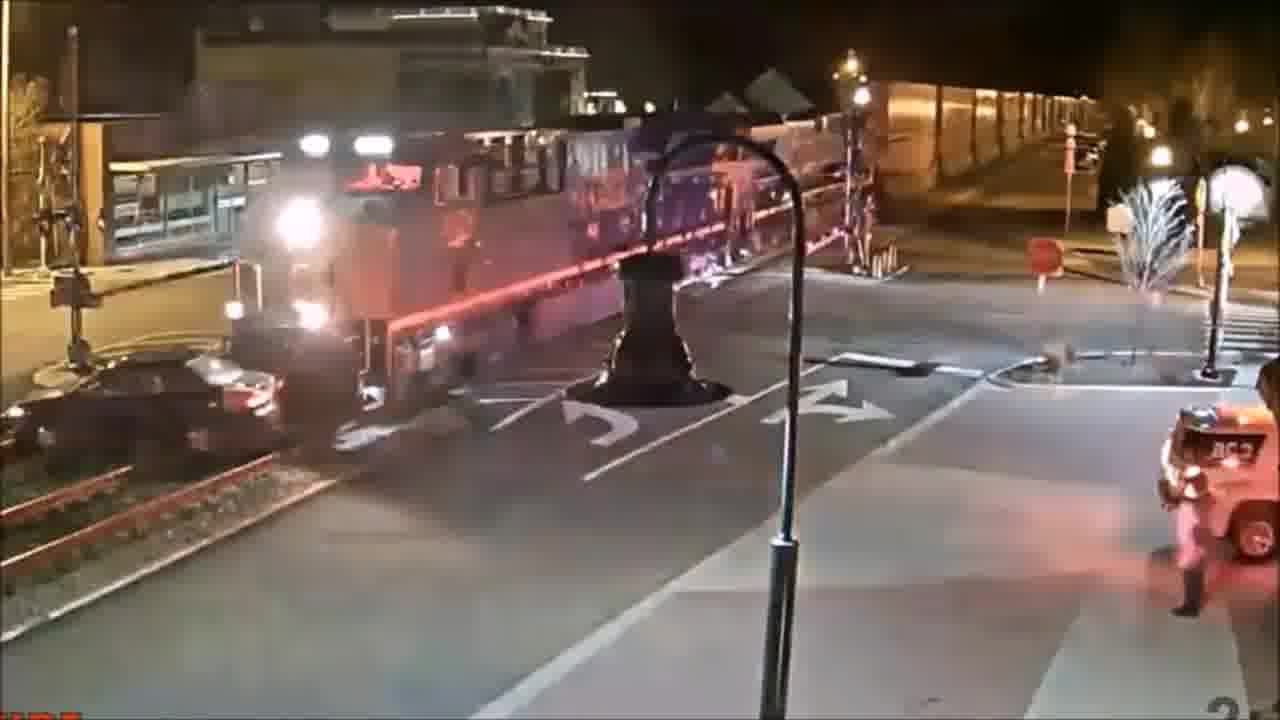crossing railway track: (8, 315, 292, 473)
